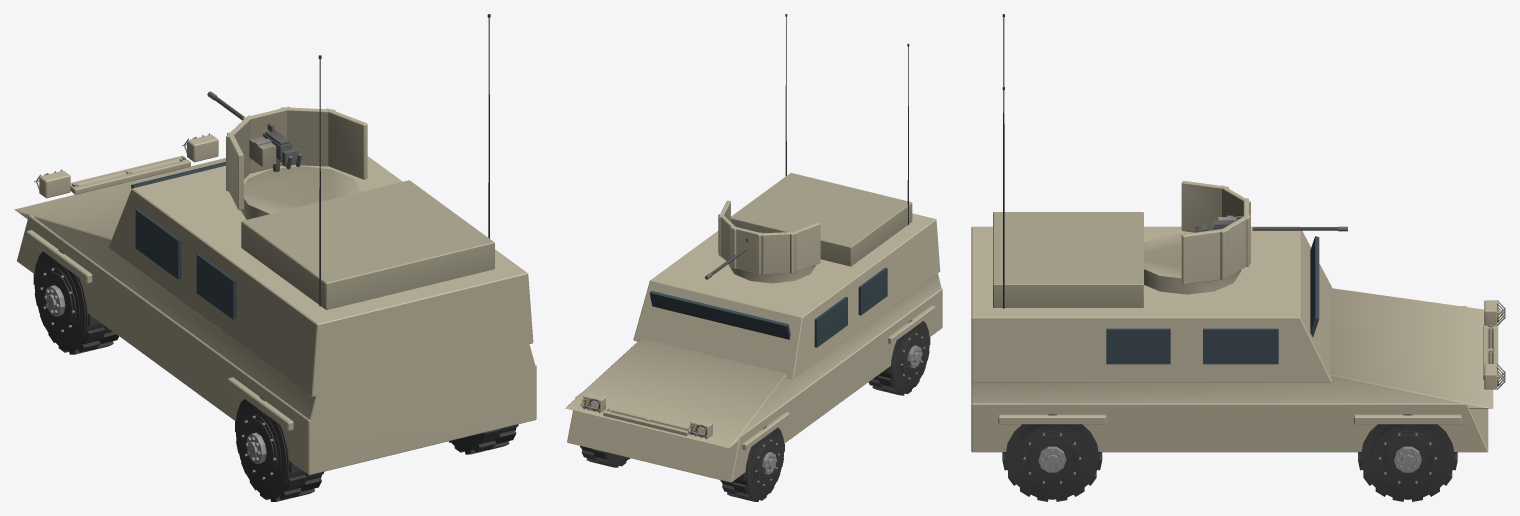
File: usa_lv_m1165.glb
3 renders of one model, left to right at view 1: azimuth 30°, elevation 25°; view 2: azimuth 150°, elevation 25°; view 3: azimuth 270°, elevation 25°, orthographic. The views are drawn at different scales.
Parts seen in each view (by area): view 1: body, turret, wheel_2, wheel_0, barrel, wheel_3; view 2: body, turret, wheel_0, wheel_2, wheel_1; view 3: body, turret, wheel_1, wheel_3, barrel.
Part boxes in pixels (<box>): body: <box>14,14,536,475</box>; turret: <box>226,106,367,219</box>; wheel_2: <box>235,397,323,501</box>; wheel_0: <box>33,250,118,354</box>; barrel: <box>207,91,301,171</box>; wheel_3: <box>449,424,518,454</box>; body: <box>565,14,942,482</box>; turret: <box>718,200,820,283</box>; wheel_0: <box>720,426,784,501</box>; wheel_2: <box>868,320,930,395</box>; wheel_1: <box>580,446,630,467</box>; body: <box>971,14,1505,452</box>; turret: <box>1144,180,1250,294</box>; wheel_1: <box>1358,414,1457,501</box>; wheel_3: <box>1002,414,1102,501</box>; barrel: <box>1195,215,1347,232</box>.
Size of the model in its own units: 2.38 by 4.12 by 4.96.
